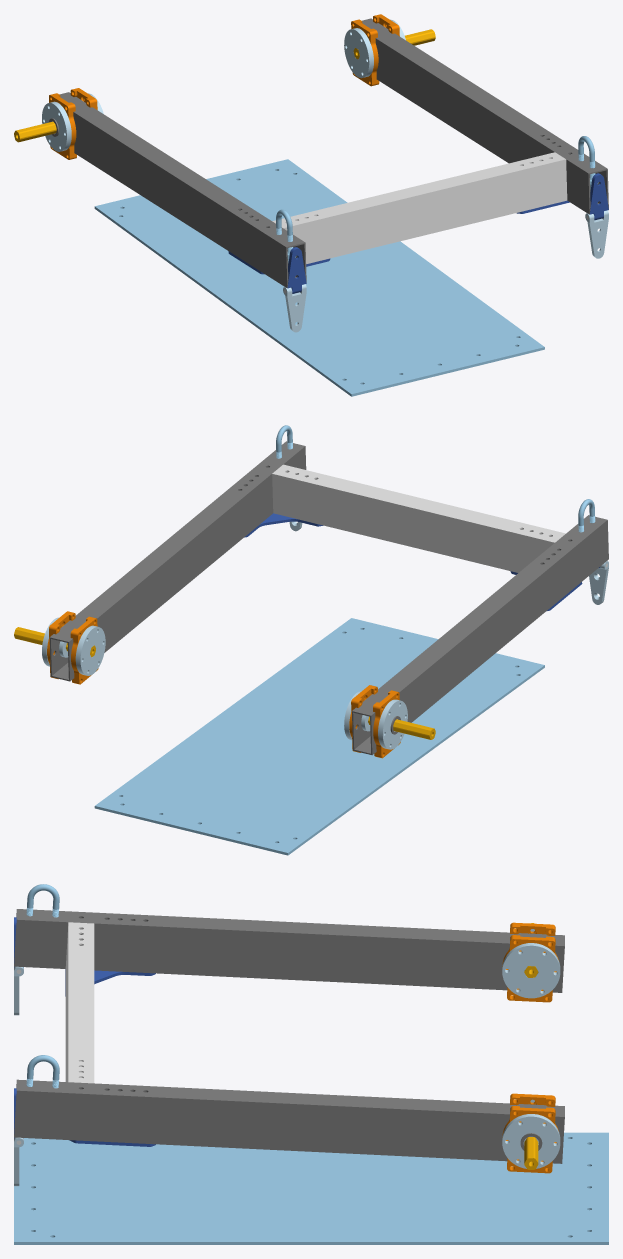
The model's file is old_model_0.glb.
3 views of the same model, one above another, from view 1: azimuth 30°, elevation 25°; view 2: azimuth 150°, elevation 25°; view 3: azimuth 270°, elevation 25° (orthographic). The views are drawn at different scales.
Parts seen in each view (by area): view 1: 03_TENSION_LINK, 03_ARM_DRIVER_LINK (×2), 03_CLOSEOUT_2X1, TTB-0005_HALFINCHHEXHUB (×2), CSK_FOR__10_FLAT_HEAD_MACHI-165 (×2), CSK_FOR__10_FLAT_HEAD_MACH-1306 (×2), THRIFTYCLAMPINGBEARINGBLOCK (×2), 03_ARM_PIVOT_SHAFT; view 2: 03_TENSION_LINK, 03_ARM_DRIVER_LINK (×2), 03_CLOSEOUT_2X1, TTB-0005_HALFINCHHEXHUB (×2), THRIFTYCLAMPINGBEARINGBLOCK (×2), CSK_FOR__10_FLAT_HEAD_MACHI-165; view 3: 03_ARM_DRIVER_LINK (×2), 03_TENSION_LINK, 03_CLOSEOUT_2X1, TTB-0005_HALFINCHHEXHUB (×2), THRIFTYCLAMPINGBEARINGBLOCK (×4), 3043T613_U-BOLT (×2).
Part boxes in pixels (x1=…): 03_TENSION_LINK: x1=94, y1=159, x2=544, y2=396; 03_ARM_DRIVER_LINK (×2): x1=59, y1=18, x2=608, y2=288; 03_CLOSEOUT_2X1: x1=272, y1=152, x2=567, y2=263; TTB-0005_HALFINCHHEXHUB (×2): x1=42, y1=28, x2=373, y2=151; CSK_FOR__10_FLAT_HEAD_MACHI-165 (×2): x1=283, y1=210, x2=608, y2=332; CSK_FOR__10_FLAT_HEAD_MACH-1306 (×2): x1=287, y1=173, x2=608, y2=293; THRIFTYCLAMPINGBEARINGBLOCK (×2): x1=49, y1=19, x2=379, y2=159; 03_ARM_PIVOT_SHAFT: x1=14, y1=121, x2=56, y2=142; 03_TENSION_LINK: x1=94, y1=618, x2=544, y2=855; 03_ARM_DRIVER_LINK (×2): x1=49, y1=441, x2=608, y2=755; 03_CLOSEOUT_2X1: x1=272, y1=464, x2=565, y2=572; TTB-0005_HALFINCHHEXHUB (×2): x1=75, y1=625, x2=407, y2=749; THRIFTYCLAMPINGBEARINGBLOCK (×2): x1=70, y1=616, x2=400, y2=758; CSK_FOR__10_FLAT_HEAD_MACHI-165: x1=589, y1=561, x2=608, y2=604; 03_ARM_DRIVER_LINK (×2): x1=14, y1=909, x2=564, y2=1163; 03_TENSION_LINK: x1=14, y1=1132, x2=608, y2=1244; 03_CLOSEOUT_2X1: x1=65, y1=922, x2=94, y2=1083; TTB-0005_HALFINCHHEXHUB (×2): x1=502, y1=943, x2=560, y2=1168; THRIFTYCLAMPINGBEARINGBLOCK (×4): x1=502, y1=922, x2=559, y2=1173; 3043T613_U-BOLT (×2): x1=26, y1=884, x2=59, y2=1088.
Size of the model in its own units: 0.5461 by 0.2386 by 0.5842.
